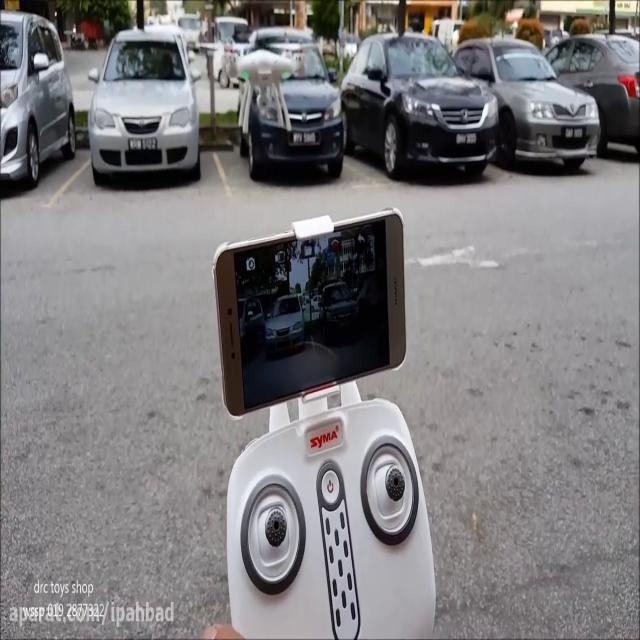drone: (202, 38, 322, 128)
